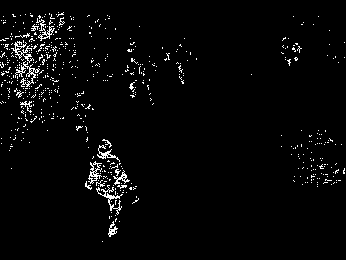person: (81, 136, 144, 244)
